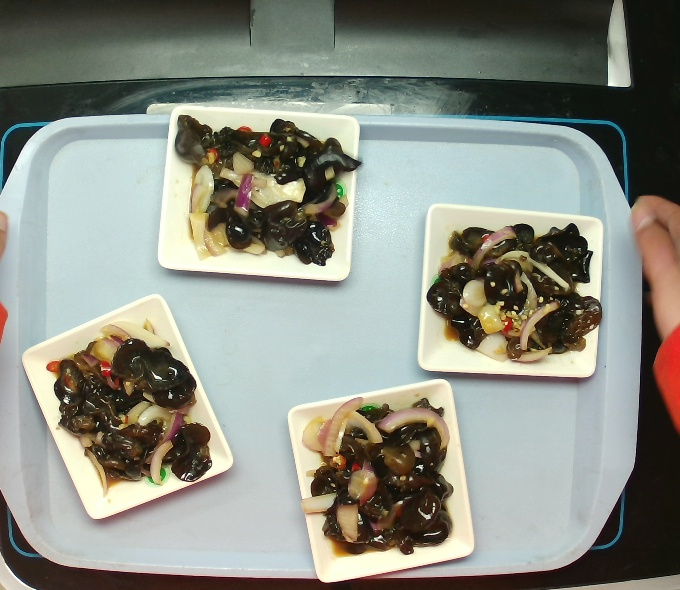wcq-LiangBanMuEr: (292, 392, 464, 565), (427, 212, 601, 368), (51, 332, 215, 487), (185, 117, 345, 265)
